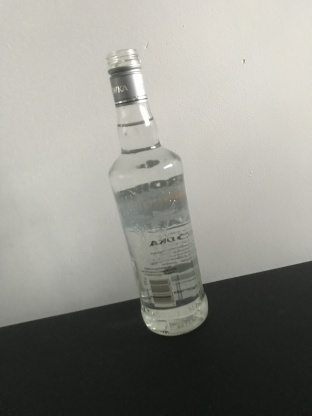nakretka: (103, 46, 149, 108)
